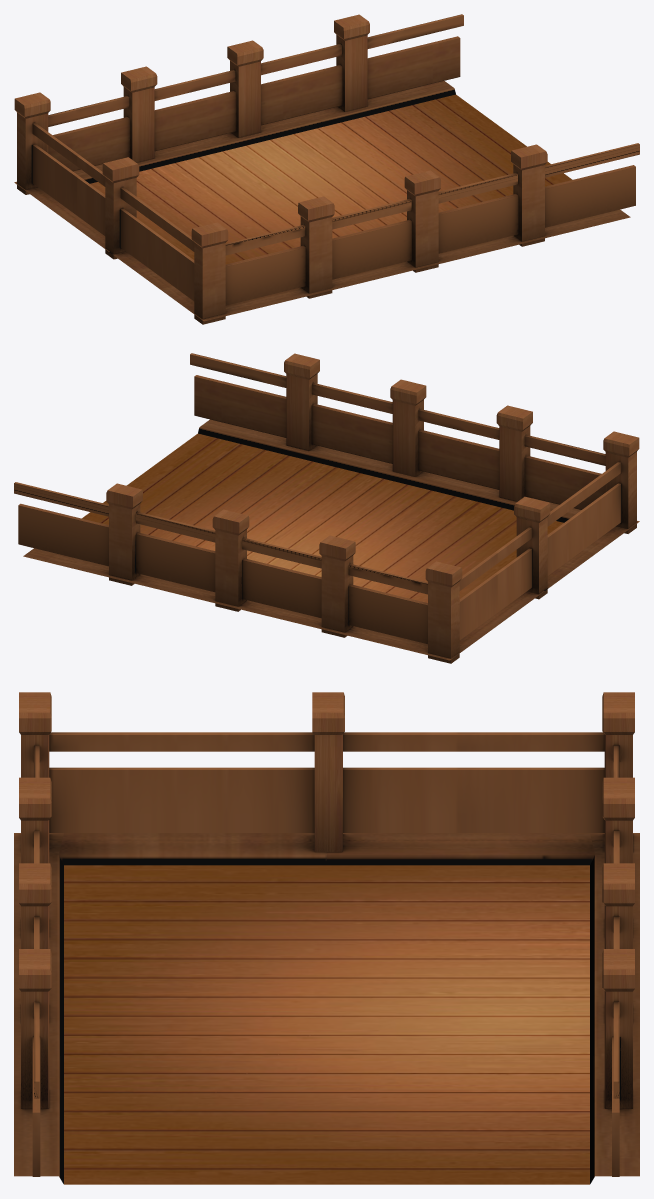
File: loginSceneWood.fbx
3 views of the same model, one above another, from view 1: azimuth 30°, elevation 25°; view 2: azimuth 150°, elevation 25°; view 3: azimuth 270°, elevation 25° (orthographic). The views are drawn at different scales.
Visible parts, largest first — view 1: WoodLogin; view 2: WoodLogin; view 3: WoodLogin.
Part boxes in pixels (bbox=[...]): WoodLogin: bbox=[14, 14, 639, 324]; WoodLogin: bbox=[14, 353, 639, 663]; WoodLogin: bbox=[14, 692, 639, 1184].
Bounding box in the file's own units: 7.71 × 1.5 × 5.73.
Materials: 1 (1 with a texture image).
